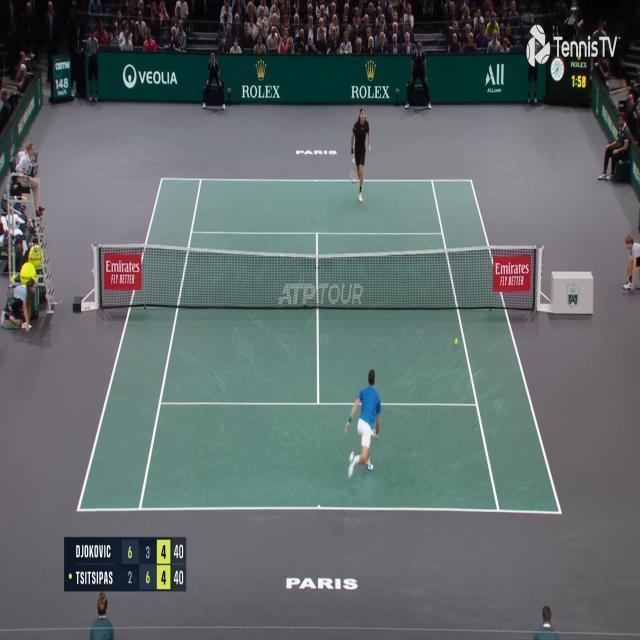court: (76, 179, 562, 514)
net: (92, 244, 544, 314)
player: (344, 369, 382, 477)
